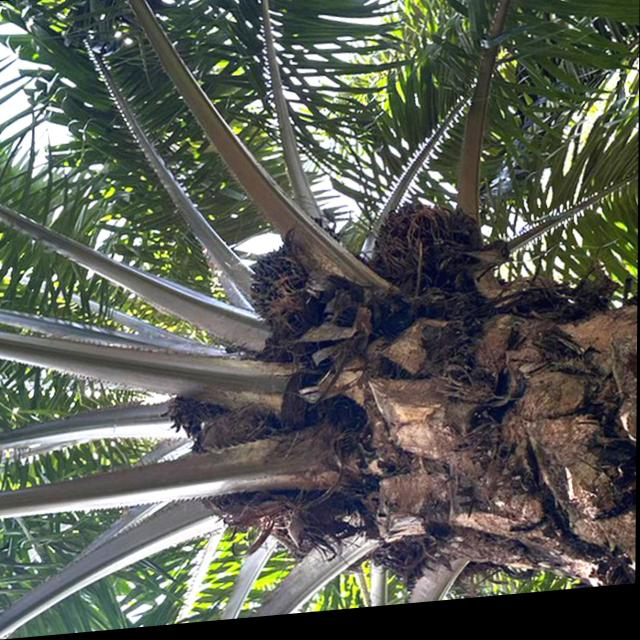unripe: (354, 176, 501, 336), (237, 231, 328, 349)
